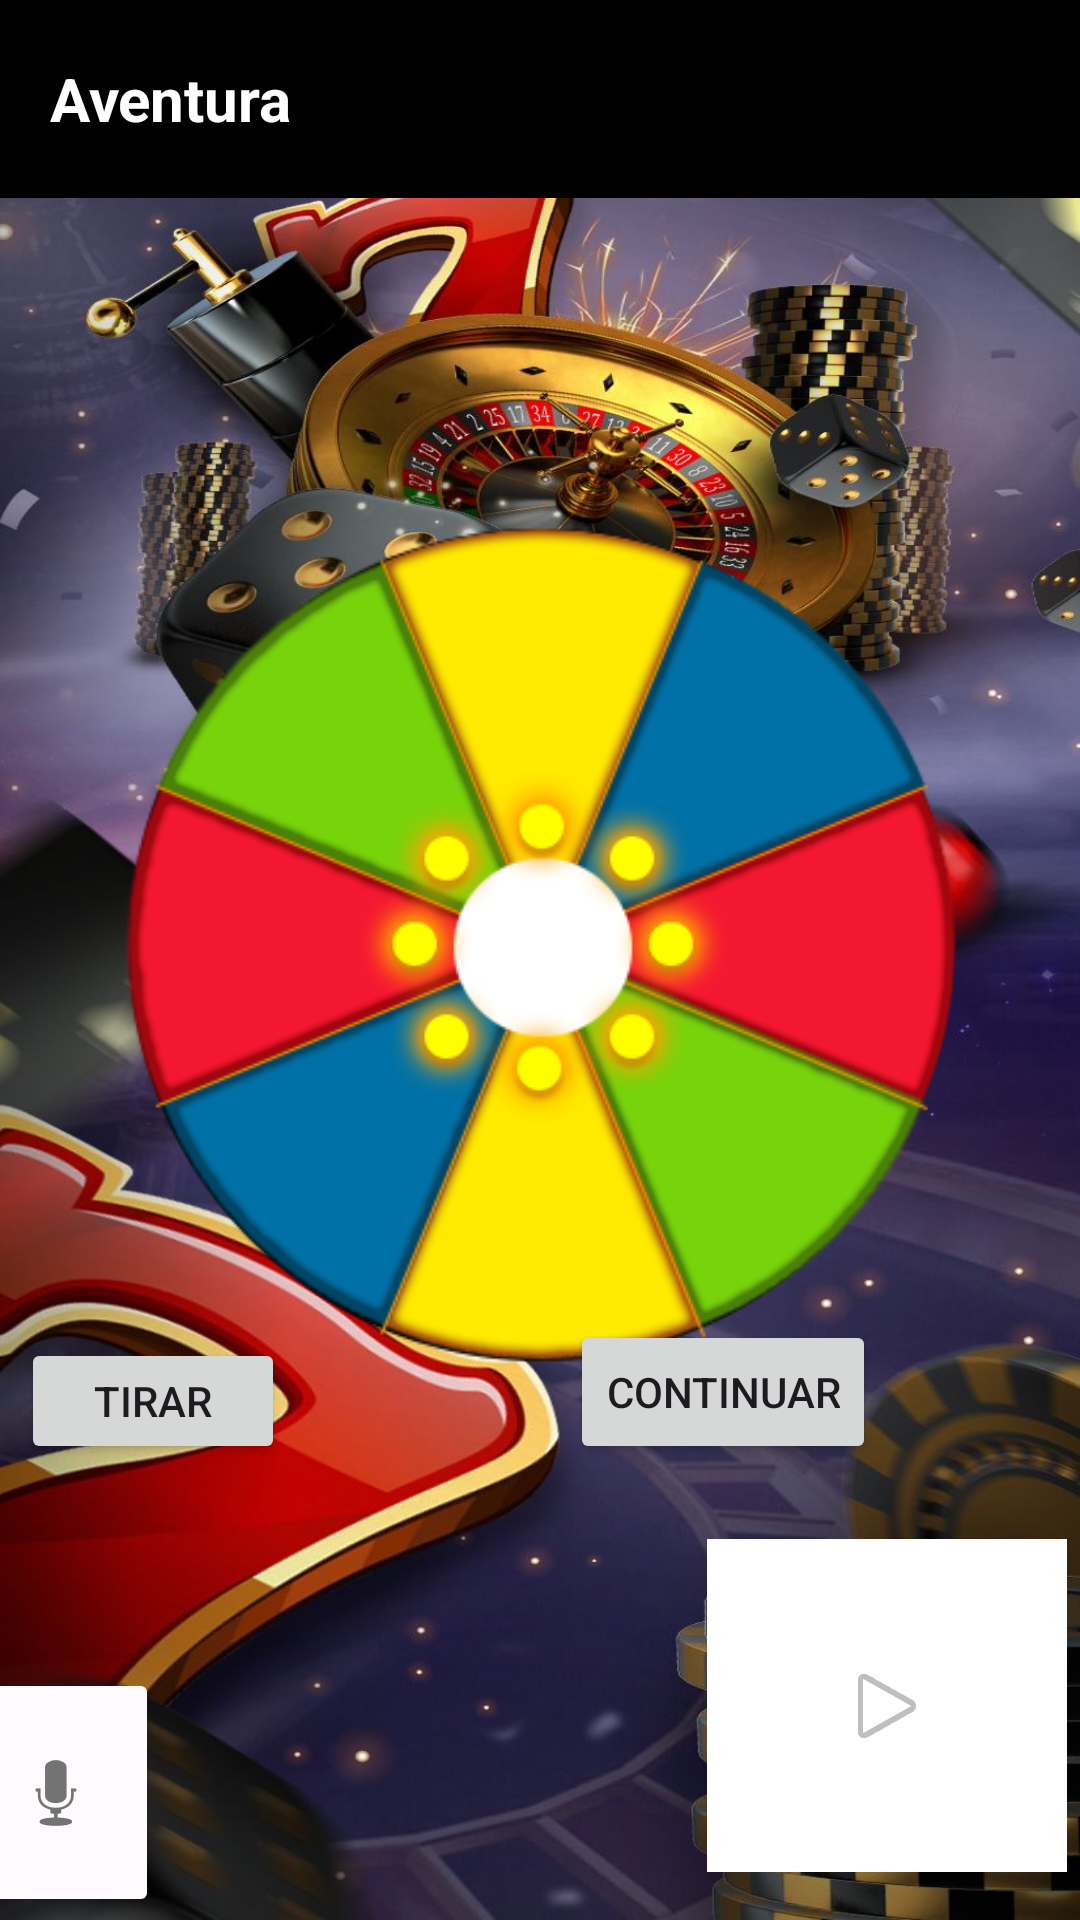

Icons on this 1080 × 1920 Android screen, each with the point to tap as (x,y):
play: (887,1705)
